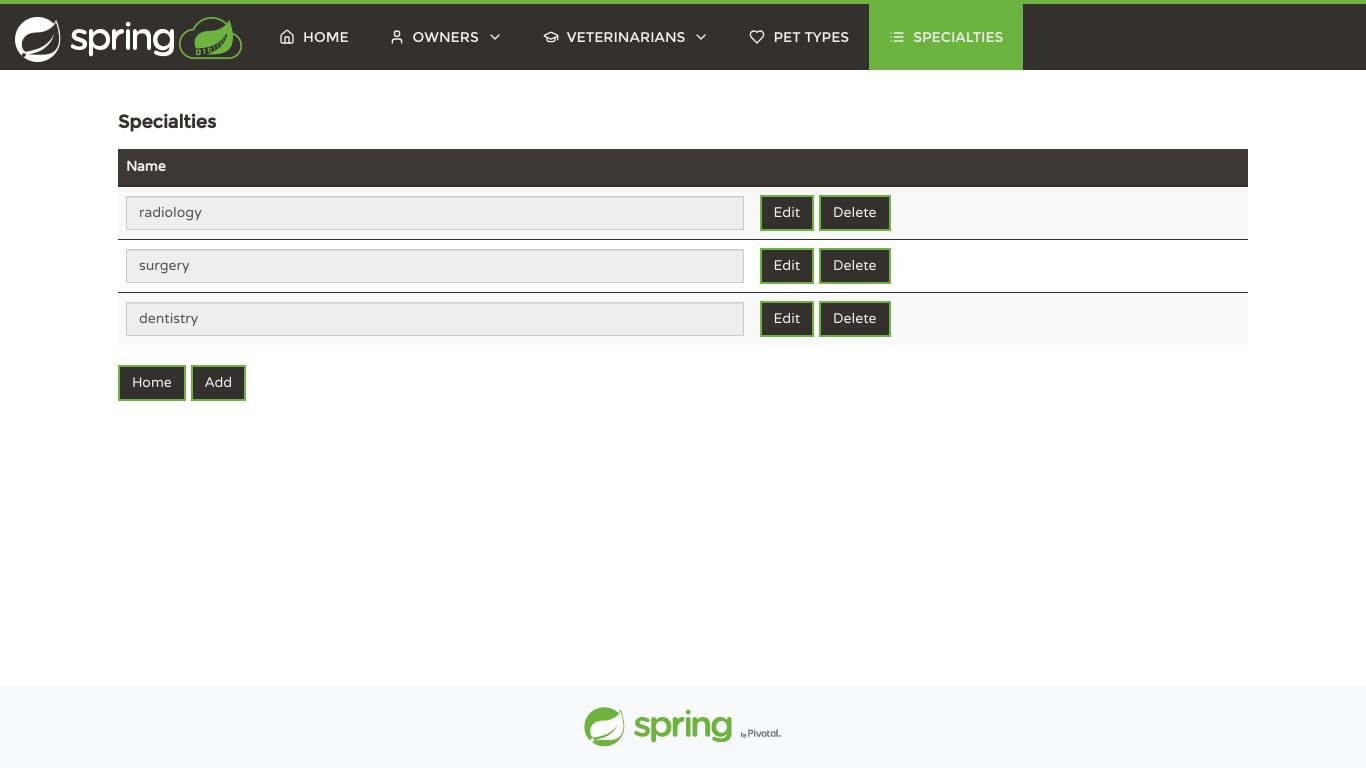
Test: SpecialtyListPage › navigates to the edit route and to home
Expected: the field showing "radiology" is shown, [126,196,744,230]
Click the 2nd button "Edit" at (787, 266), box [760,248,814,284]
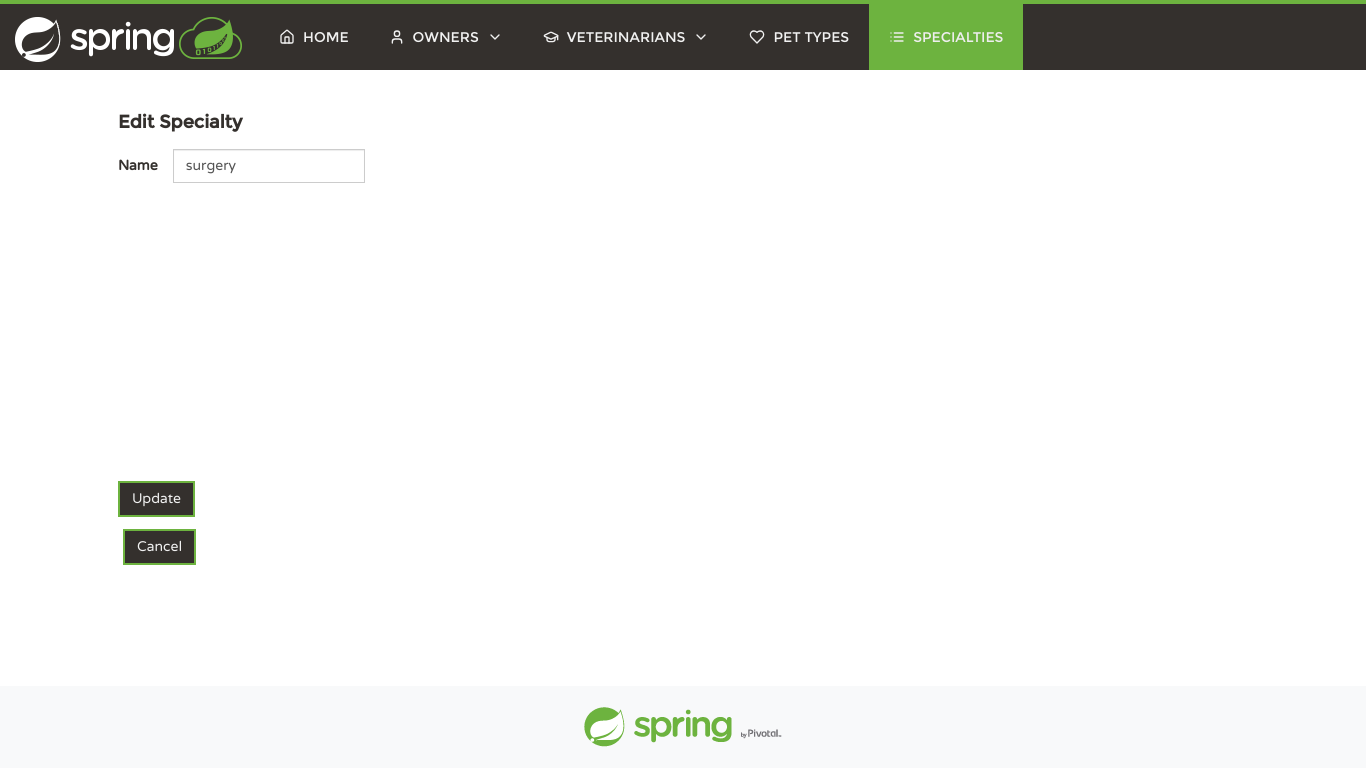
Expected: the heading "Edit Specialty" is shown, [118,112,242,132]
